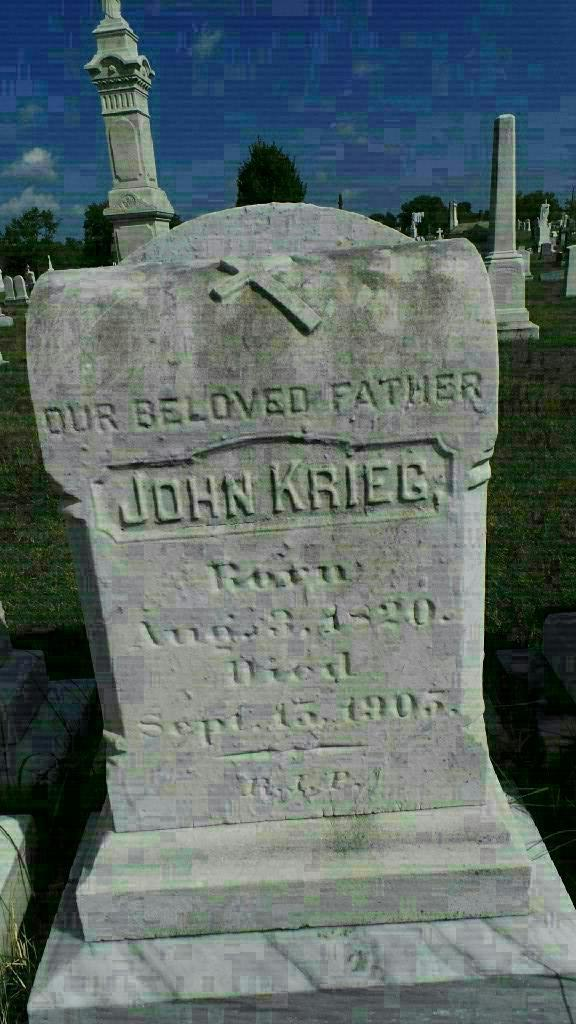upright: (22, 152, 576, 1010)
